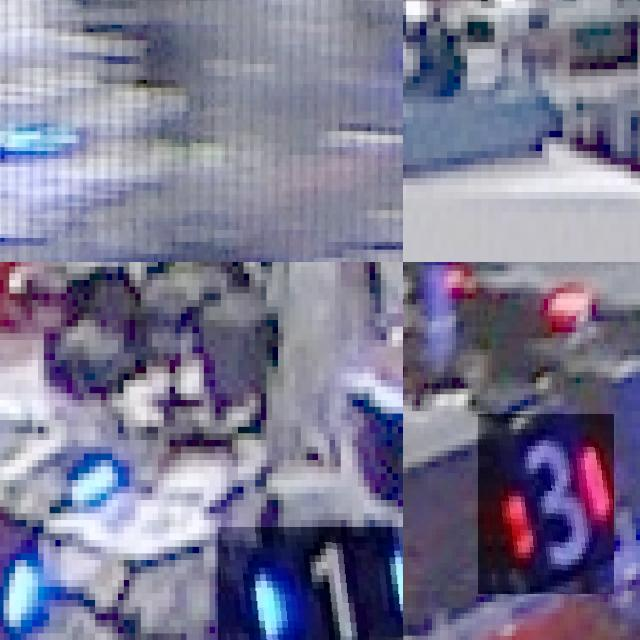B1: (217, 526, 403, 640), (0, 406, 117, 500), (0, 499, 43, 633)
R3: (478, 414, 614, 594)
